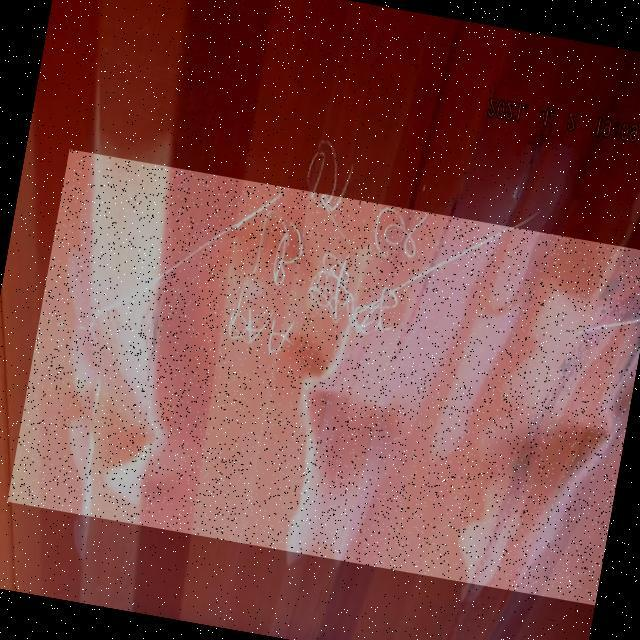Dent: (7, 149, 640, 605)
